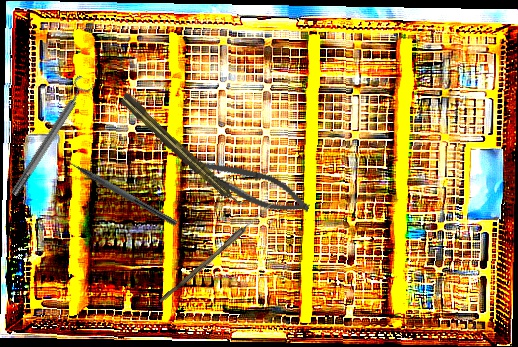Chopper: (56, 148, 183, 227)
Fixation Ring: (3, 73, 97, 201)
Handpiece: (117, 90, 248, 214)
Micro Scissor: (178, 148, 315, 222)
Surgical Spoon: (158, 199, 276, 306)
